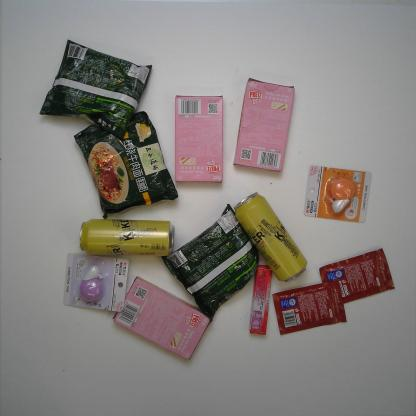Alcohol: (232, 188, 310, 284), (75, 216, 178, 261)
Candy: (248, 262, 276, 338)
Dessert: (107, 272, 216, 362), (230, 74, 297, 175), (172, 92, 226, 186)
Instant Noodles: (158, 199, 262, 325), (35, 36, 156, 141), (70, 108, 181, 222)
Seasoner: (316, 246, 398, 306), (271, 278, 349, 337)
Stationery: (300, 160, 374, 226), (60, 249, 131, 316)
